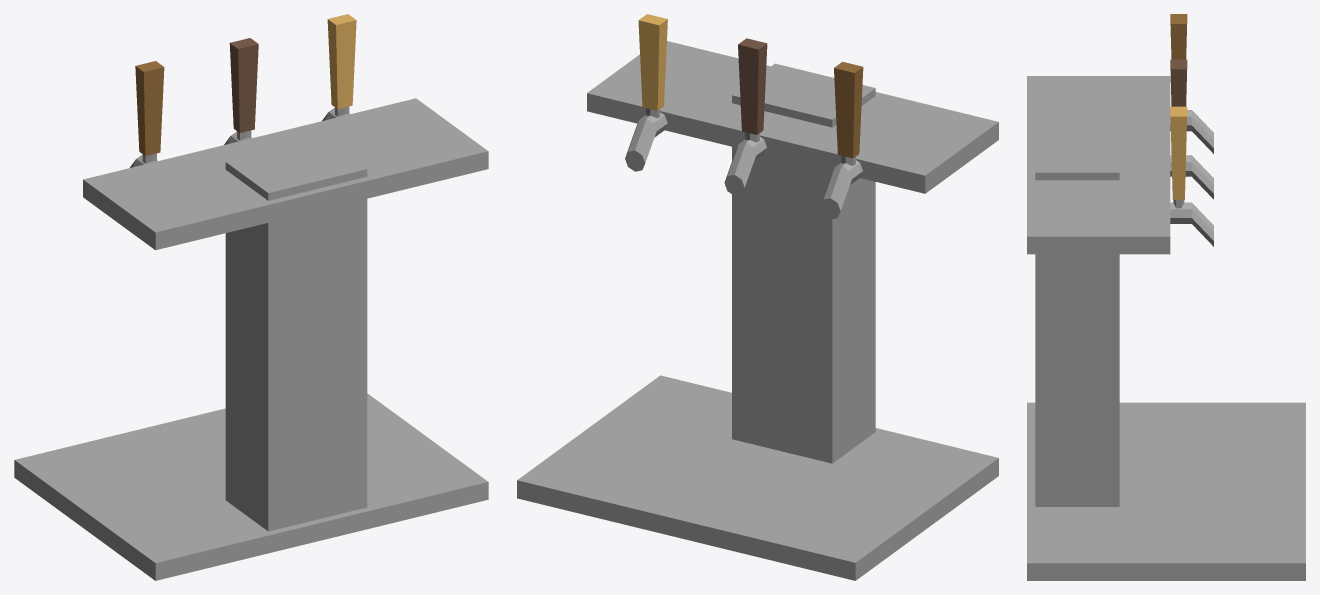
Rendered from beerTap.fbx.
3 renders of one model, left to right at view 1: azimuth 30°, elevation 25°; view 2: azimuth 150°, elevation 25°; view 3: azimuth 270°, elevation 25°, orthographic. The views are drawn at different scales.
Visible parts, largest first — view 1: beerTap, Lever.001, Lever.002, Lever; view 2: beerTap, Lever.001, Lever, Lever.002, Spout.001, Spout, Spout.002; view 3: beerTap, Lever.002, Spout.002, Lever.001, Lever, Spout.001, Spout.
Part boxes in pixels (x1,y1,x2,y2): beerTap: (14, 98, 488, 580); Lever.001: (229, 38, 258, 132); Lever.002: (327, 14, 356, 109); Lever: (135, 61, 164, 155); beerTap: (517, 41, 998, 580); Lever.001: (738, 38, 767, 134); Lever: (834, 61, 863, 158); Lever.002: (638, 14, 667, 110); Spout.001: (724, 132, 766, 195); Spout: (820, 155, 862, 219); Spout.002: (625, 108, 667, 171); beerTap: (1027, 76, 1305, 580); Lever.002: (1170, 106, 1187, 199); Spout.002: (1170, 200, 1213, 246); Lever.001: (1170, 59, 1187, 106); Lever: (1170, 14, 1187, 59); Spout.001: (1170, 155, 1213, 199); Spout: (1170, 110, 1213, 153).
Bounding box in the file's own units: 242 × 307 × 178.
